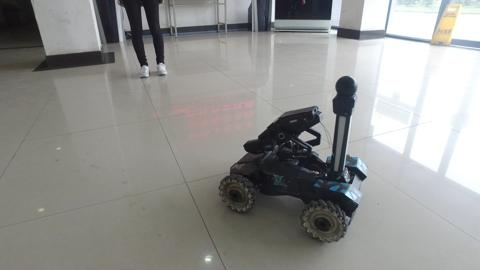chariot: (216, 73, 367, 243)
